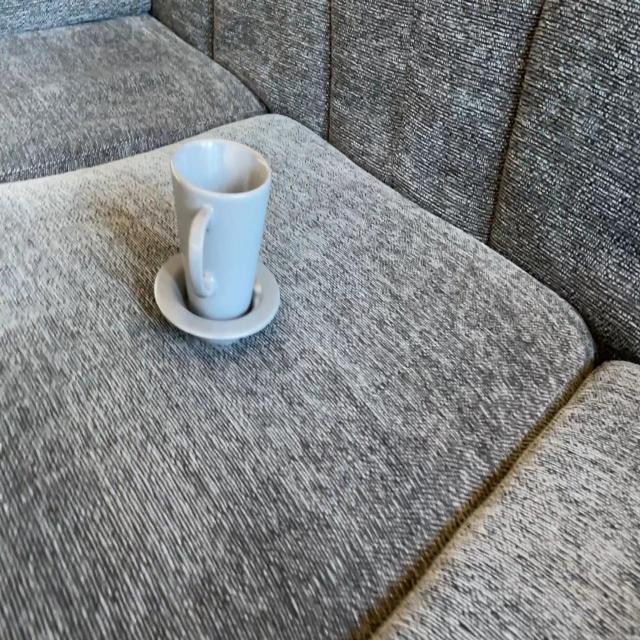cup: (169, 137, 273, 320)
